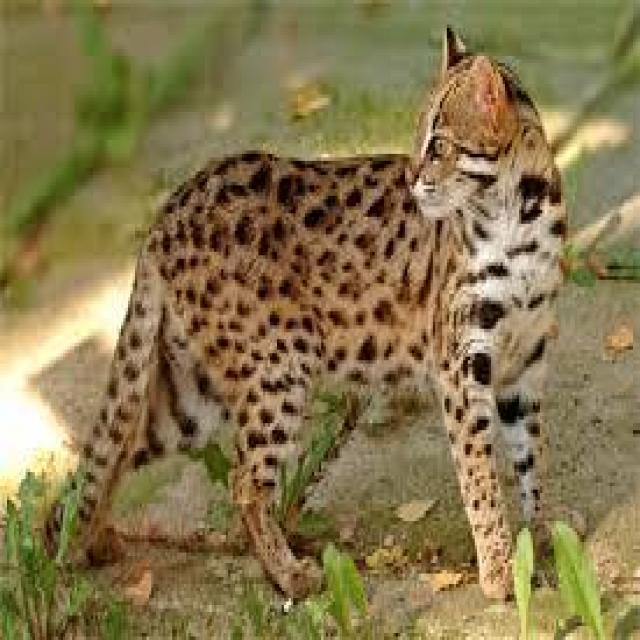leopard: (150, 147, 614, 493)
